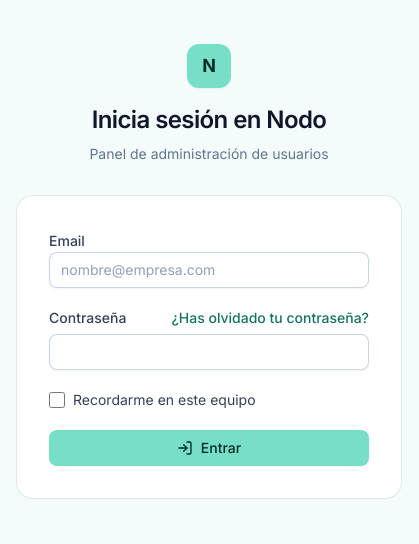
it: LoginPage › muestra el error y vacía la contraseña si falla
Type "ana@example.com" into the field labelled "Email" at point(209, 270), box [49,252,369,288]
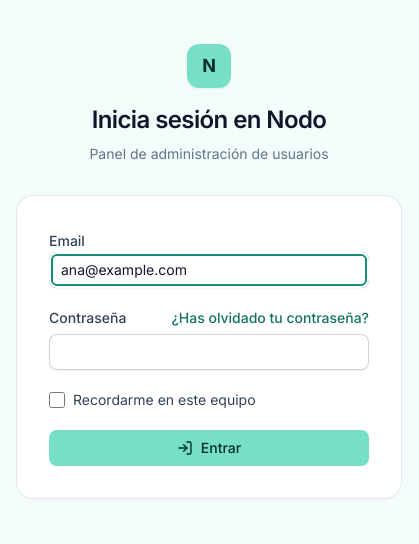
Type "incorrecta" into the password field labelled "Contraseña" at point(209, 352), box [49,334,369,370]
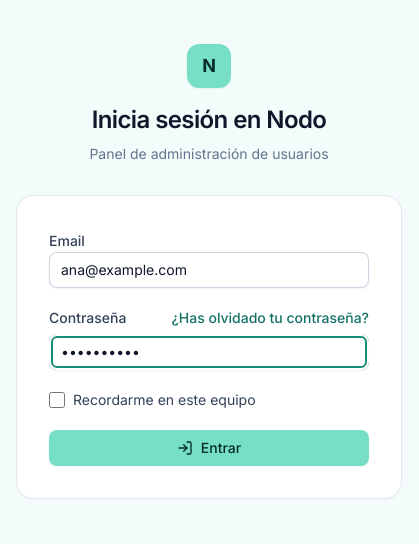
Click the button "Entrar" at point(209, 448), box [49,430,369,466]
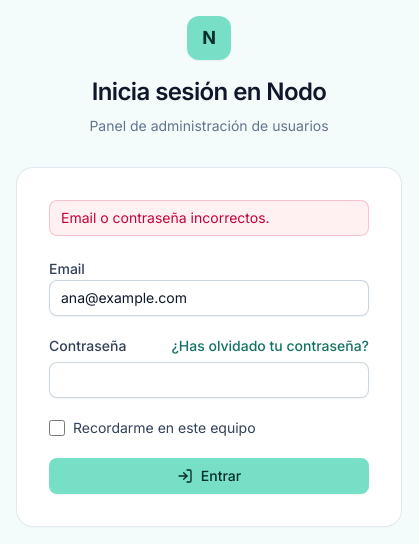
Result: the message reads "Email o contraseña incorrectos." at [61,209,270,226]
Result: the password field labelled "Contraseña" is empty at [49,362,369,398]
